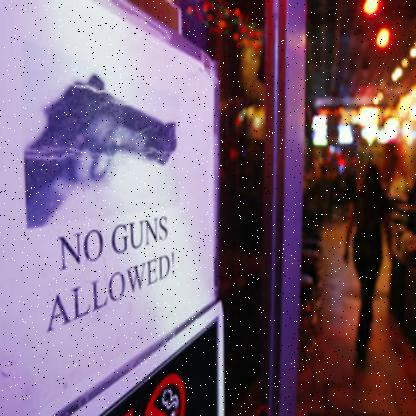pistol: (21, 71, 175, 205)
